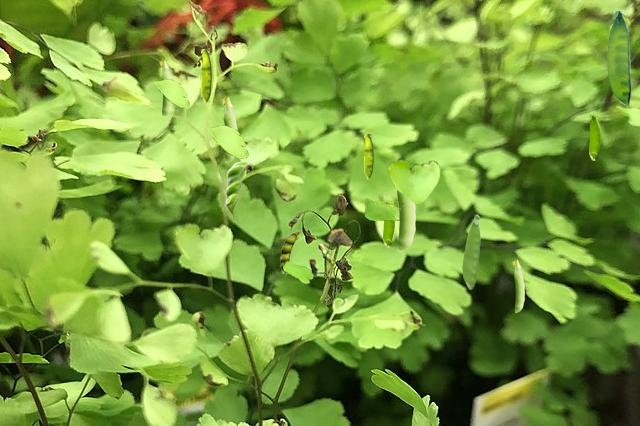pea: (607, 11, 629, 106), (224, 161, 253, 218), (462, 214, 479, 288), (396, 190, 414, 250), (221, 95, 236, 161), (280, 231, 298, 275), (159, 58, 171, 115), (512, 258, 523, 311), (201, 49, 210, 102), (589, 115, 599, 159), (383, 202, 393, 246), (364, 134, 372, 178)
